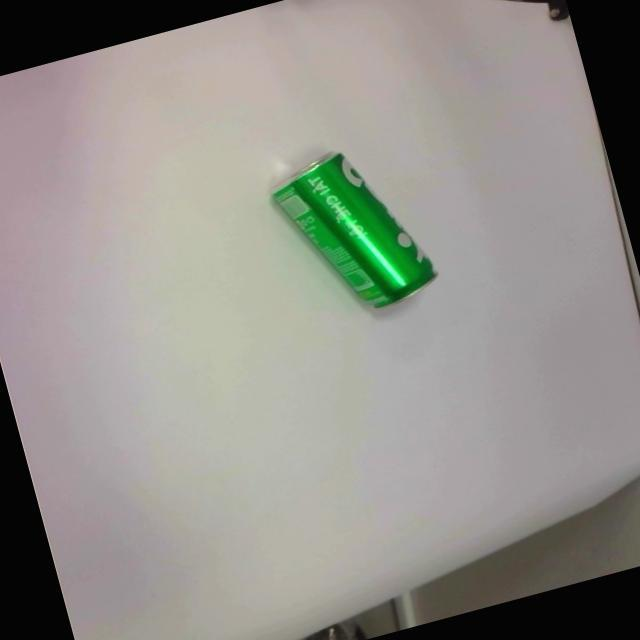debris: (262, 132, 443, 327)
